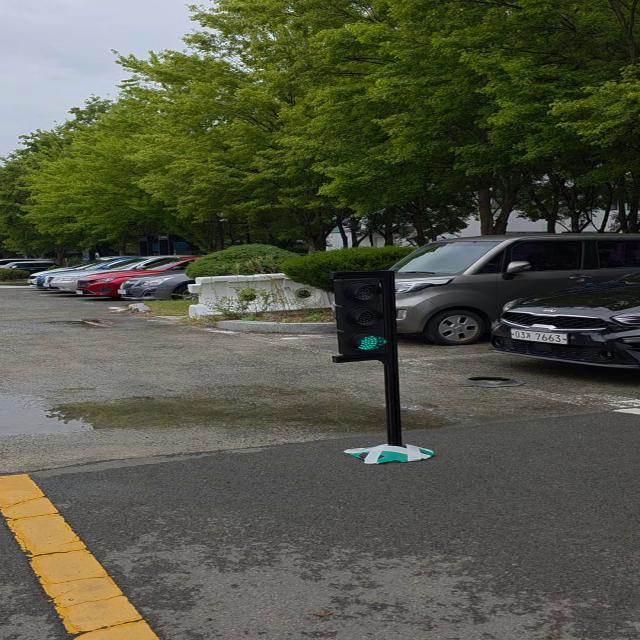green: (331, 274, 402, 362)
